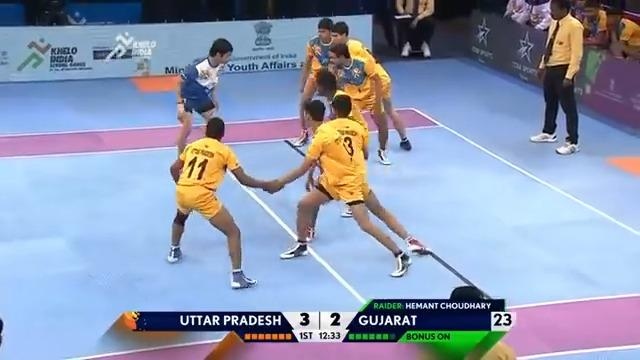Player: (263, 93, 431, 277), (166, 116, 283, 289), (338, 19, 411, 154), (327, 25, 386, 144), (291, 17, 336, 146)
Raider: (173, 37, 233, 159)
referee: (528, 0, 585, 155)
